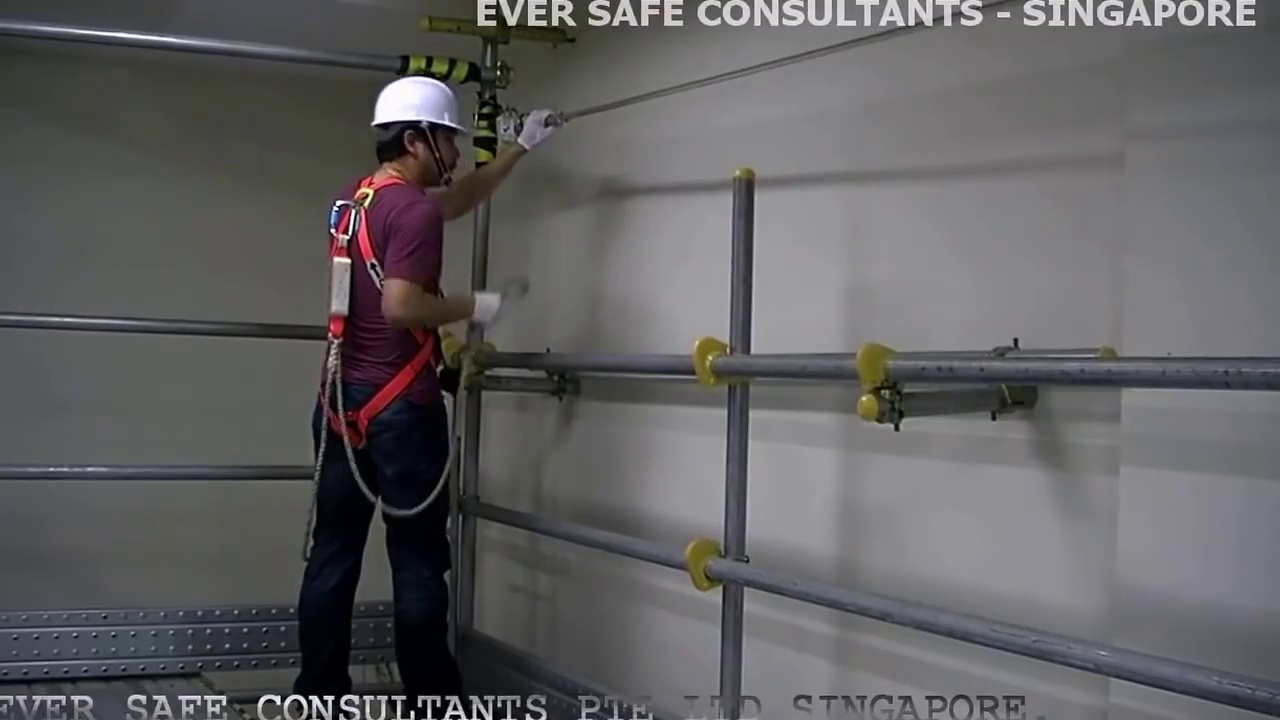harness: (309, 179, 430, 441)
helmet: (369, 75, 464, 129)
leash: (309, 341, 511, 540)
